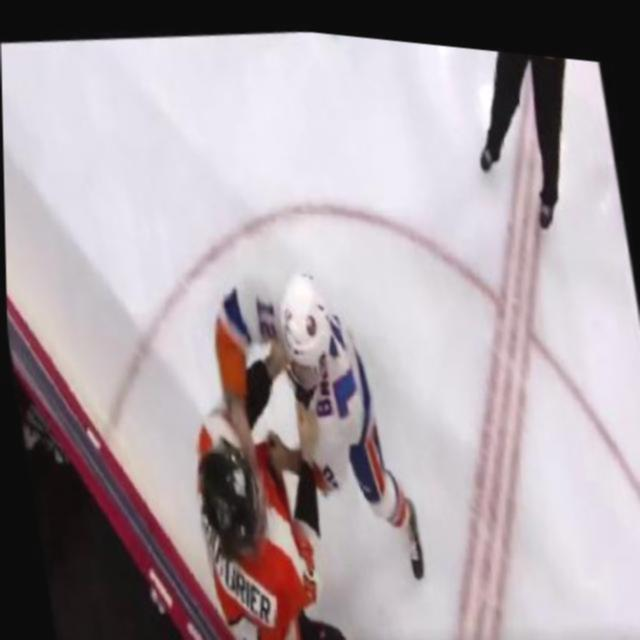fight: (160, 240, 440, 640)
